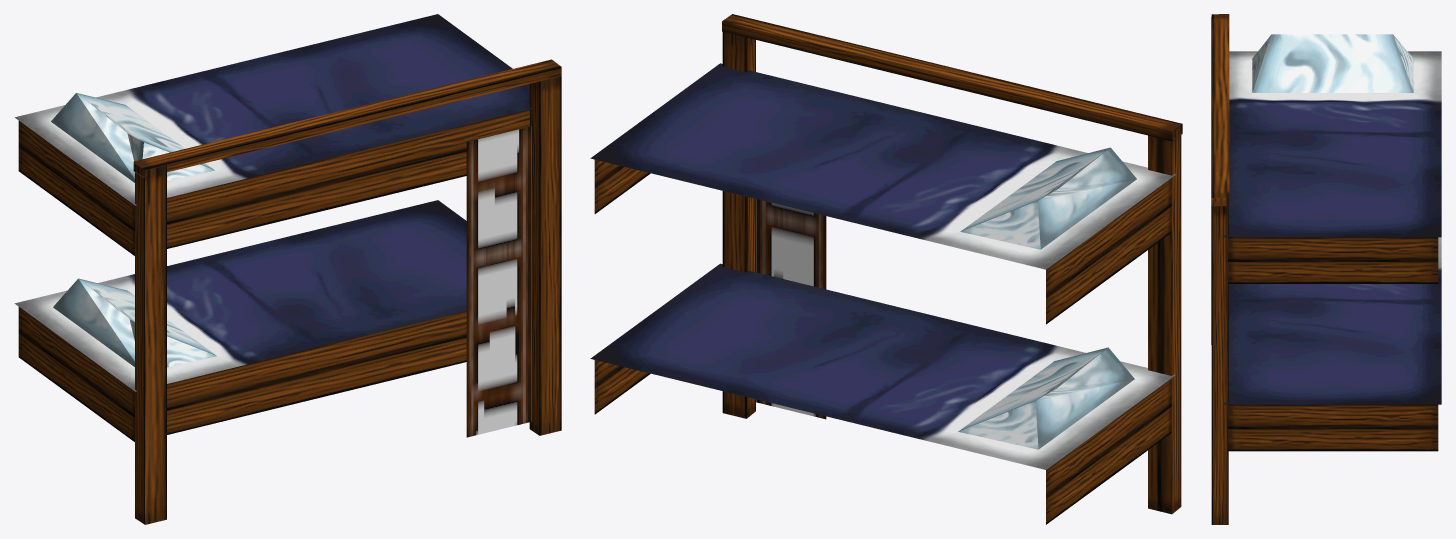
File: Bett_Stockbett_504.glb
3 renders of one model, left to right at view 1: azimuth 30°, elevation 25°; view 2: azimuth 150°, elevation 25°; view 3: azimuth 270°, elevation 25°, orthographic. The views are drawn at different scales.
Parts seen in each view (by area): view 1: pPlaneShape51, pPlaneShape52, pPlaneShape53, pPlaneShape54, pPlaneShape55, pPlaneShape60, pPlaneShape61, pPlaneShape62, pPlaneShape57, pPlaneShape58, pCylinderShape51, pCylinderShape52; view 2: pPlaneShape52, pPlaneShape51, pPlaneShape60, pPlaneShape62, pCylinderShape52, pCylinderShape51, pPlaneShape57, pPlaneShape58, pPlaneShape53, pPlaneShape61, pPlaneShape56, pPlaneShape59; view 3: pPlaneShape52, pPlaneShape51, pPlaneShape59, pPlaneShape56, pCylinderShape51, pPlaneShape61, pPlaneShape62, pPlaneShape60.
Boxes of the visible parts, x1=… form: pPlaneShape51: x1=14, y1=200, x2=466, y2=391; pPlaneShape52: x1=15, y1=14, x2=531, y2=205; pPlaneShape53: x1=466, y1=126, x2=531, y2=437; pPlaneShape54: x1=167, y1=109, x2=529, y2=248; pPlaneShape55: x1=167, y1=311, x2=466, y2=434; pPlaneShape60: x1=135, y1=163, x2=166, y2=524; pPlaneShape61: x1=529, y1=76, x2=561, y2=435; pPlaneShape62: x1=133, y1=59, x2=561, y2=177; pPlaneShape57: x1=18, y1=121, x2=134, y2=255; pPlaneShape58: x1=18, y1=307, x2=134, y2=441; pCylinderShape51: x1=51, y1=93, x2=214, y2=182; pCylinderShape52: x1=53, y1=278, x2=216, y2=367; pPlaneShape52: x1=590, y1=63, x2=1175, y2=269; pPlaneShape51: x1=590, y1=263, x2=1175, y2=469; pPlaneShape60: x1=1148, y1=126, x2=1181, y2=514; pPlaneShape62: x1=722, y1=14, x2=1182, y2=141; pCylinderShape52: x1=958, y1=347, x2=1134, y2=449; pCylinderShape51: x1=960, y1=147, x2=1136, y2=249; pPlaneShape57: x1=1046, y1=178, x2=1171, y2=324; pPlaneShape58: x1=1046, y1=378, x2=1171, y2=524; pPlaneShape53: x1=756, y1=199, x2=826, y2=419; pPlaneShape61: x1=722, y1=32, x2=755, y2=418; pPlaneShape56: x1=594, y1=159, x2=650, y2=213; pPlaneShape59: x1=594, y1=360, x2=650, y2=414; pPlaneShape52: x1=1224, y1=51, x2=1441, y2=237; pPlaneShape51: x1=1224, y1=237, x2=1441, y2=404; pPlaneShape59: x1=1228, y1=404, x2=1438, y2=451; pPlaneShape56: x1=1228, y1=237, x2=1438, y2=283; pCylinderShape51: x1=1252, y1=34, x2=1413, y2=92; pPlaneShape61: x1=1211, y1=206, x2=1228, y2=524; pPlaneShape62: x1=1211, y1=14, x2=1229, y2=206; pPlaneShape60: x1=1211, y1=17, x2=1211, y2=344.
Bounding box in the file's own units: 0.3177 × 0.2609 × 0.1663.
14 materials, 14 textured.
